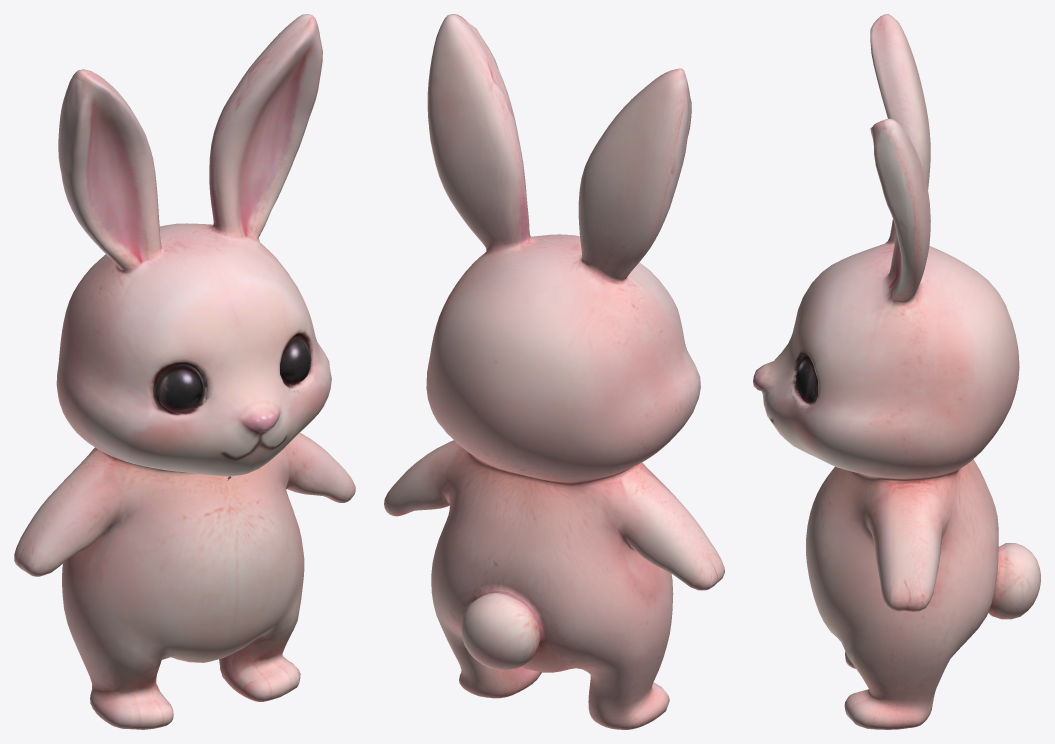
File: con_tho2.glb
The picture shows the model from 3 angles, left to right: view 1: azimuth 30°, elevation 25°; view 2: azimuth 150°, elevation 25°; view 3: azimuth 270°, elevation 25°; orthographic projection. The views are drawn at different scales.
Size of the model in its own units: 1.04 by 2 by 0.8367.
1 material, 1 textured.
